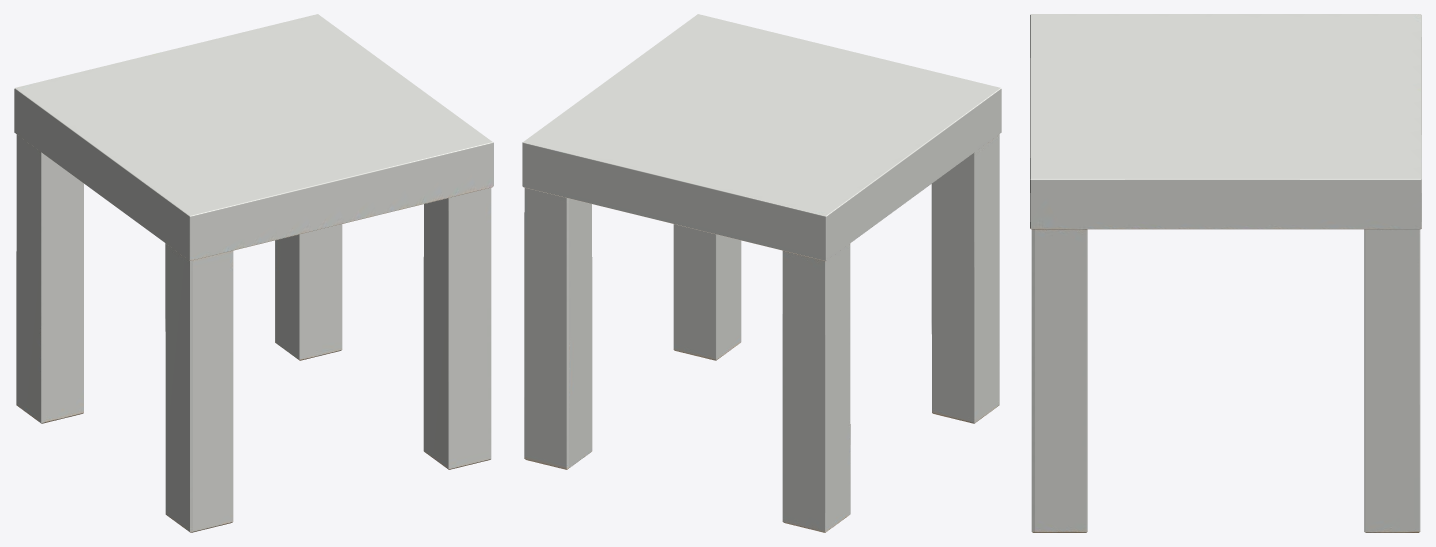
File: lack_stolik_30514791.glb
3 views of the same model, side by side, from view 1: azimuth 30°, elevation 25°; view 2: azimuth 150°, elevation 25°; view 3: azimuth 270°, elevation 25° (orthographic). The views are drawn at different scales.
Visible parts, largest first — view 1: lack_stolik_30514791; view 2: lack_stolik_30514791; view 3: lack_stolik_30514791.
Part boxes in pixels (x1=…): lack_stolik_30514791: x1=14, y1=14, x2=493, y2=532; lack_stolik_30514791: x1=522, y1=14, x2=1001, y2=532; lack_stolik_30514791: x1=1030, y1=14, x2=1421, y2=532.
Size of the model in its own units: 0.35 by 0.35 by 0.35.
1 material, 1 textured.
